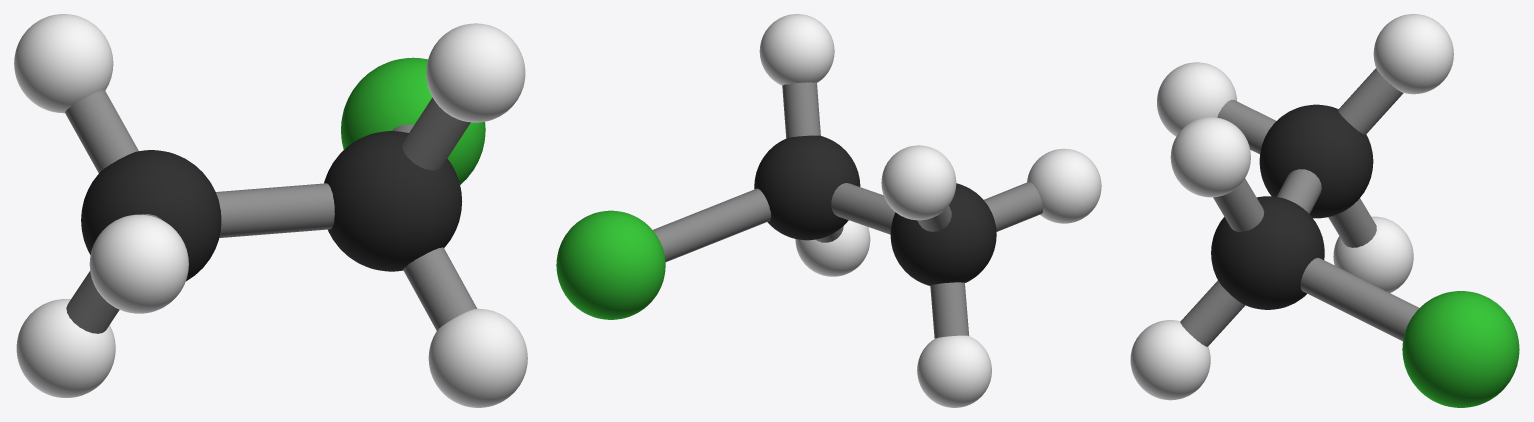
The model's file is chlorethan.glb.
3 renders of one model, left to right at view 1: azimuth 30°, elevation 25°; view 2: azimuth 150°, elevation 25°; view 3: azimuth 270°, elevation 25°, orthographic. The views are drawn at different scales.
Visible parts, largest first — view 1: C_1, C_0, H_7, H_3, H_6, H_4, H_5, Cl_2, B0, B5, B3, B6 (+1 smaller); view 2: Cl_2, C_1, C_0, H_4, H_5, H_7, H_3, B1, H_6, B0, B4, B6 (+1 smaller); view 3: Cl_2, C_1, C_0, H_7, H_4, H_6, B1, H_3, H_5, B3, B5, B6 (+3 smaller).
Boxes of the visible parts, bbox=[...] form: C_1: bbox=[324, 131, 462, 271]; C_0: bbox=[81, 150, 221, 281]; H_7: bbox=[426, 23, 525, 122]; H_3: bbox=[89, 214, 188, 313]; H_6: bbox=[428, 308, 527, 407]; H_4: bbox=[14, 14, 113, 113]; H_5: bbox=[16, 299, 115, 397]; Cl_2: bbox=[341, 57, 485, 184]; B0: bbox=[216, 183, 334, 237]; B5: bbox=[403, 247, 476, 330]; B3: bbox=[65, 90, 138, 172]; B6: bbox=[402, 97, 470, 170]; Cl_2: bbox=[556, 210, 665, 319]; C_1: bbox=[754, 135, 860, 240]; C_0: bbox=[890, 183, 996, 285]; H_4: bbox=[881, 145, 956, 220]; H_5: bbox=[917, 335, 991, 407]; H_7: bbox=[759, 14, 834, 85]; H_3: bbox=[1027, 148, 1101, 223]; B1: bbox=[653, 188, 771, 262]; H_6: bbox=[795, 220, 870, 276]; B0: bbox=[831, 183, 895, 234]; B4: bbox=[930, 282, 969, 338]; B6: bbox=[782, 82, 820, 138]; Cl_2: bbox=[1402, 291, 1519, 407]; C_1: bbox=[1211, 196, 1324, 309]; C_0: bbox=[1259, 104, 1373, 218]; H_7: bbox=[1170, 117, 1250, 197]; H_4: bbox=[1373, 14, 1453, 94]; H_6: bbox=[1130, 320, 1210, 400]; B1: bbox=[1300, 257, 1419, 341]; H_3: bbox=[1157, 62, 1236, 136]; H_5: bbox=[1333, 216, 1413, 292]; B3: bbox=[1338, 68, 1403, 134]; B5: bbox=[1180, 280, 1245, 346]; B6: bbox=[1213, 178, 1264, 231].
Bounding box in the file's own units: 3.79 × 2.42 × 2.91.
